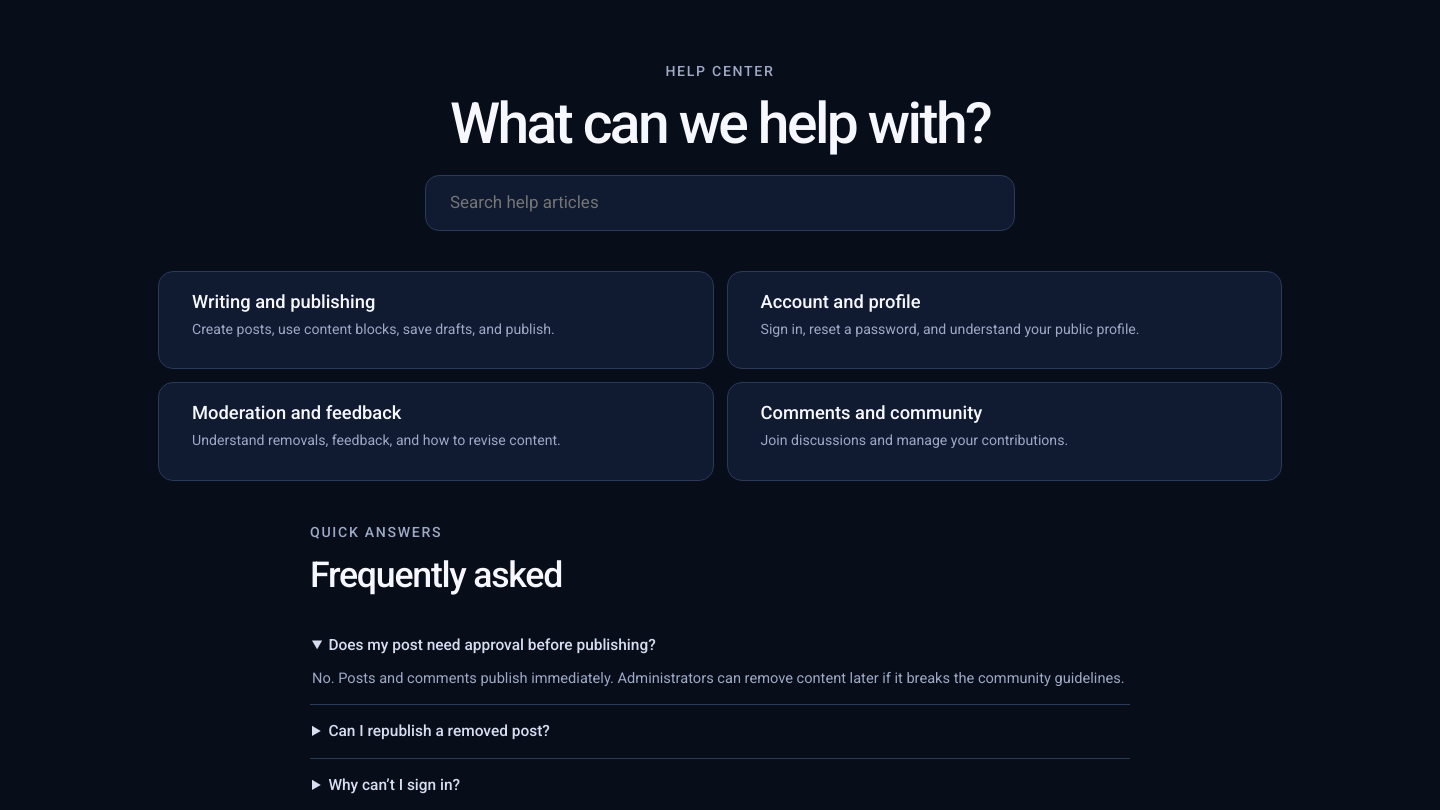
Test: live community features › filters help content as the user searches
The width and height of the screenshot is (1440, 810).
In the search field labelled "Search help articles": (720, 203) [440, 176, 1000, 230], type "password"
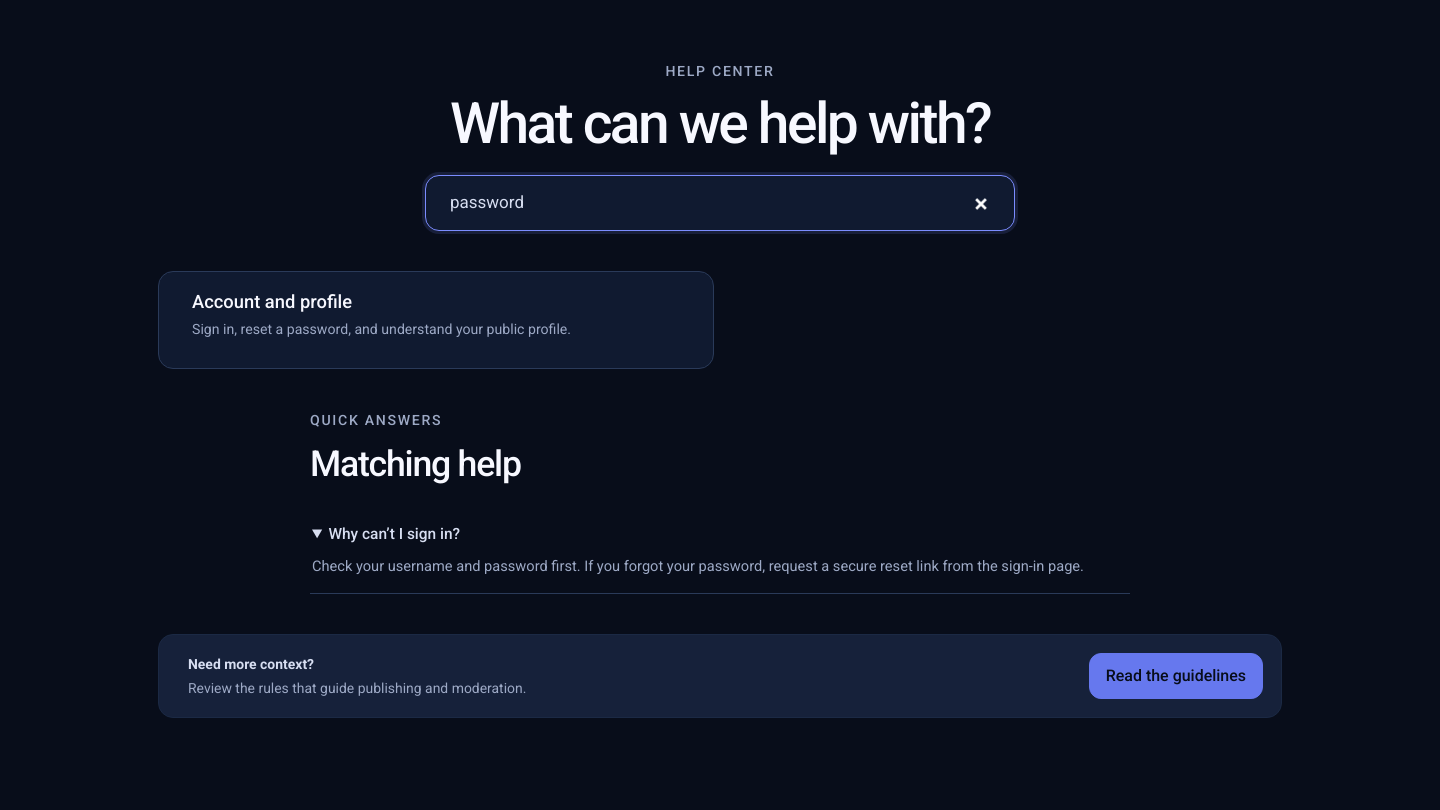
Expected: the heading "Account and profile" is shown, [192, 290, 352, 312]
Expected: the heading "Writing and publishing" is gone
